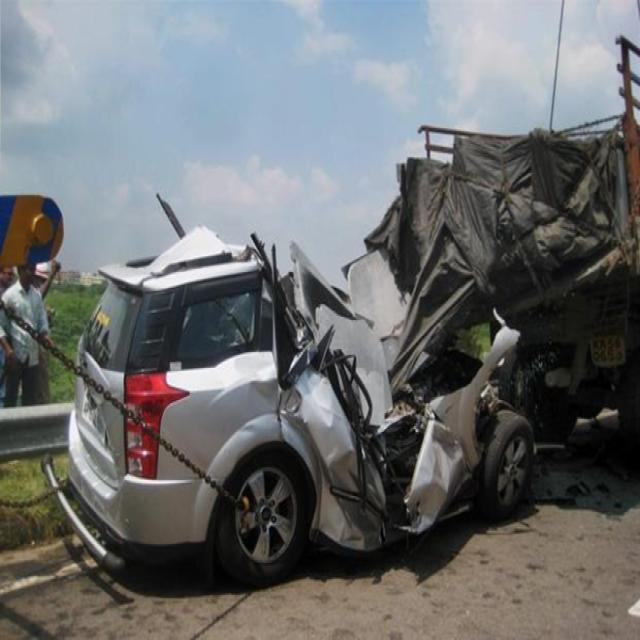accident: (42, 227, 531, 585), (365, 38, 640, 447)
